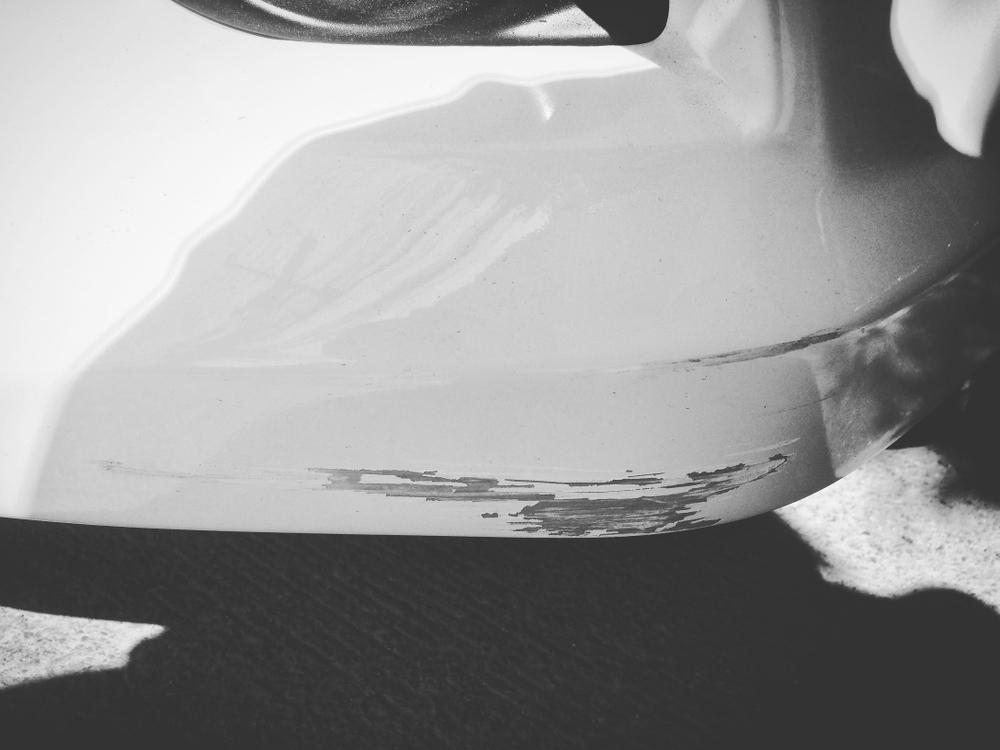scratch: (91, 438, 812, 540), (647, 321, 867, 377)
